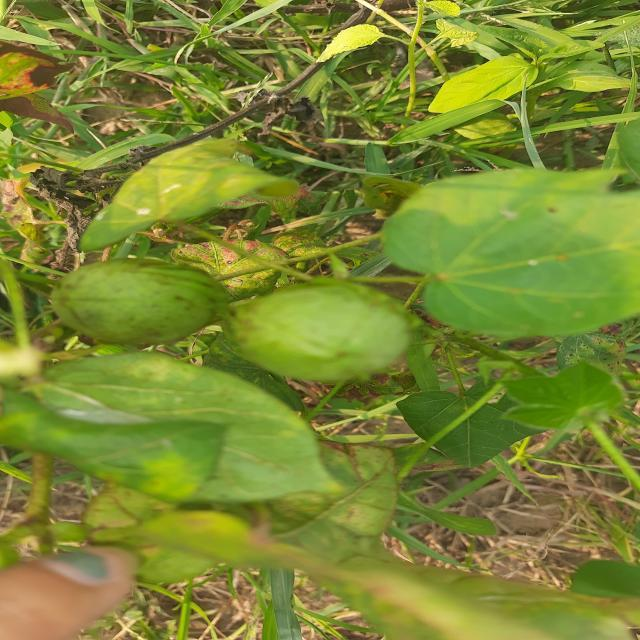Early Boll: (212, 282, 432, 388), (33, 261, 225, 348)
